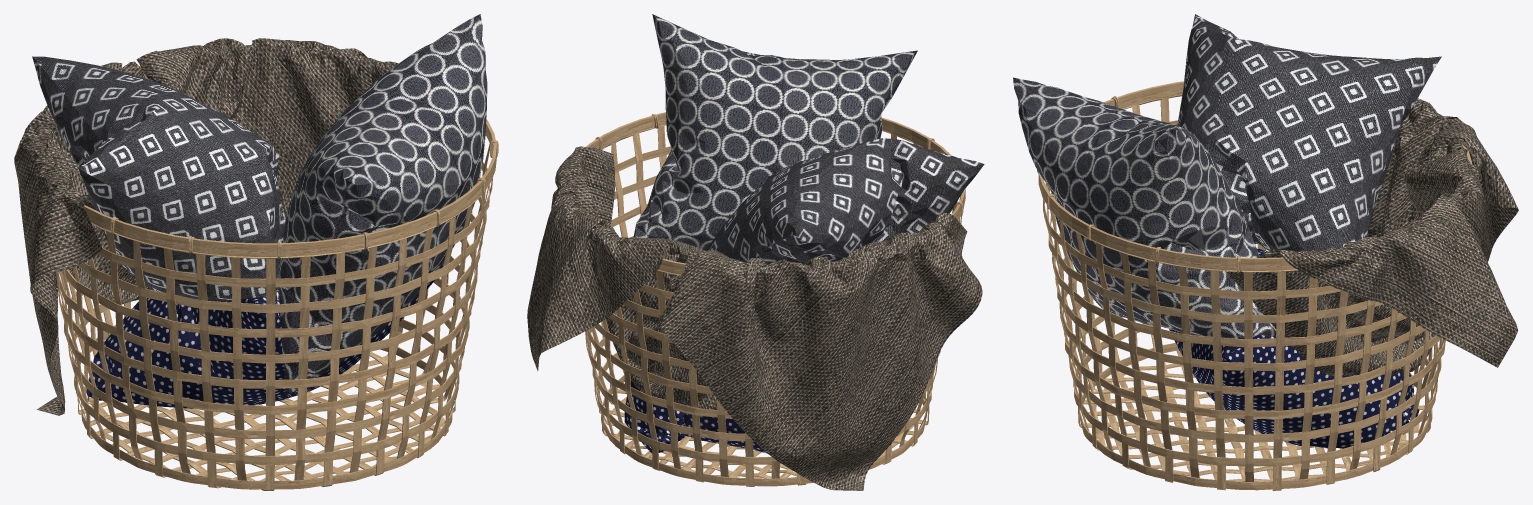
Rendered from Yastik.fbx.
3 renders of one model, left to right at view 1: azimuth 30°, elevation 25°; view 2: azimuth 150°, elevation 25°; view 3: azimuth 270°, elevation 25°, orthographic. The views are drawn at different scales.
Visible parts, largest first — view 1: Basket_IKEA_GADDIS_50_32_02, pillow_001, pillow_002, cloth_GADDIS, pillow_003; view 2: cloth_GADDIS, pillow_001, Basket_IKEA_GADDIS_50_32_02, pillow_002, pillow_003; view 3: Basket_IKEA_GADDIS_50_32_02, pillow_002, cloth_GADDIS, pillow_001, pillow_003.
Boxes of the visible parts, x1,y1,x2,y2 form: Basket_IKEA_GADDIS_50_32_02: (47, 66, 498, 490); pillow_001: (279, 14, 487, 395); pillow_002: (32, 56, 285, 301); cloth_GADDIS: (14, 38, 398, 415); pillow_003: (86, 263, 443, 408); cloth_GADDIS: (527, 146, 982, 490); pillow_001: (633, 14, 917, 250); Basket_IKEA_GADDIS_50_32_02: (585, 112, 965, 486); pillow_002: (706, 138, 984, 264); pillow_003: (624, 380, 766, 453); Basket_IKEA_GADDIS_50_32_02: (1037, 81, 1471, 490); pillow_002: (1177, 14, 1441, 251); cloth_GADDIS: (1226, 98, 1518, 375); pillow_001: (1013, 77, 1276, 339); pillow_003: (1169, 248, 1419, 448).
Size of the model in its own units: 14177 by 11920 by 14864.
